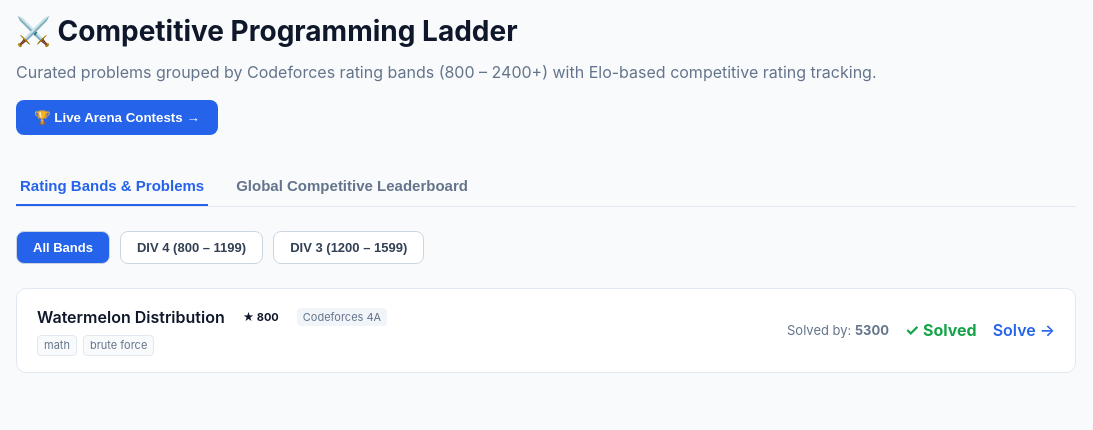
Test: DSAapp Phase 8 Contests, Interview, CP, SQL & OOP UI › renders CompetitivePage with rating bands, problem ladder, and global leaderboard
The image size is (1093, 430).
Expected: the text "Watermelon Distribution" is shown, [37,305,225,329]
Expected: the text "★ 800" is shown, [243,310,279,324]
Note: Check leaderboard tab
Click the button "Global Competitive Leaderboard" at (352, 186), box [232,167,472,206]
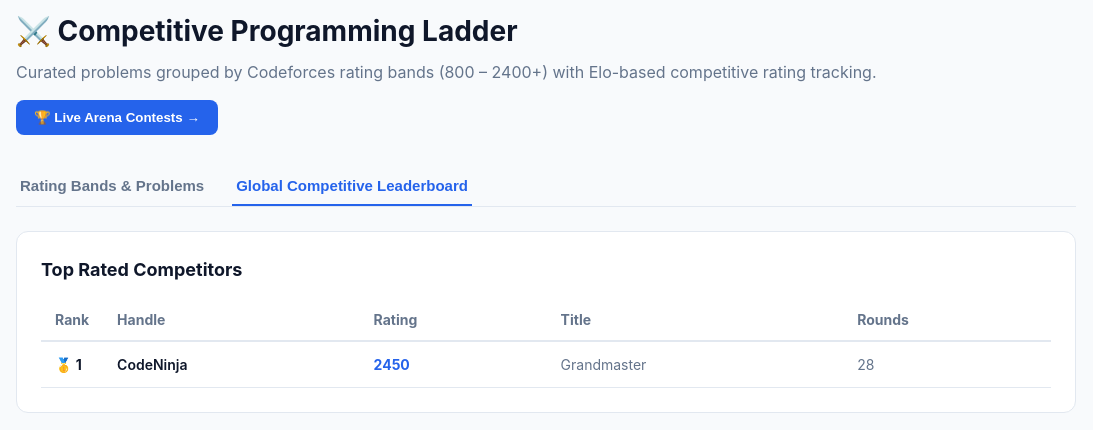
Expected: the text "CodeNinja" is shown, [103,341,360,388]
Expected: the text "Grandmaster" is shown, [547,341,843,388]
